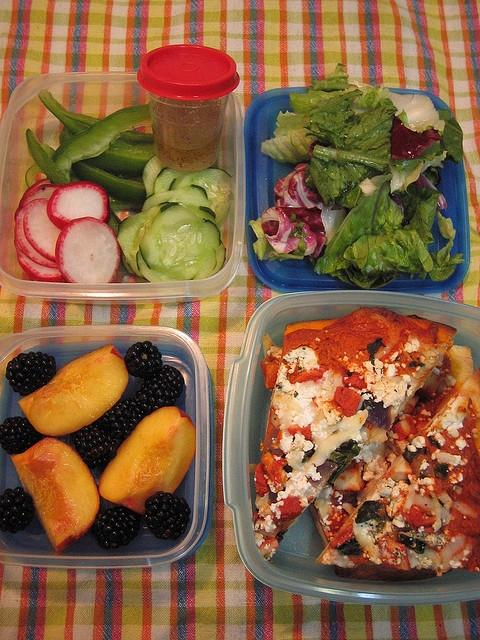bell pepper: (25, 104, 150, 184), (42, 142, 147, 205), (84, 138, 156, 176), (119, 126, 154, 142), (106, 208, 122, 239), (25, 164, 45, 188), (60, 125, 74, 146)
blackberry: (72, 421, 125, 470), (144, 491, 191, 542), (135, 365, 184, 413), (6, 351, 57, 396), (94, 398, 150, 438), (0, 416, 50, 456), (96, 506, 140, 548), (1, 486, 36, 534), (125, 339, 162, 378)
cucumber: (138, 202, 220, 280), (116, 201, 170, 281), (136, 241, 226, 282), (168, 168, 232, 198), (142, 184, 209, 212), (142, 155, 165, 199), (153, 167, 186, 194)
peach: (98, 406, 196, 515), (10, 437, 100, 552), (18, 344, 129, 436)
radish: (55, 216, 122, 284), (46, 180, 110, 230), (14, 198, 57, 268), (23, 200, 60, 263), (15, 236, 64, 282), (21, 184, 62, 208), (19, 179, 51, 208)
